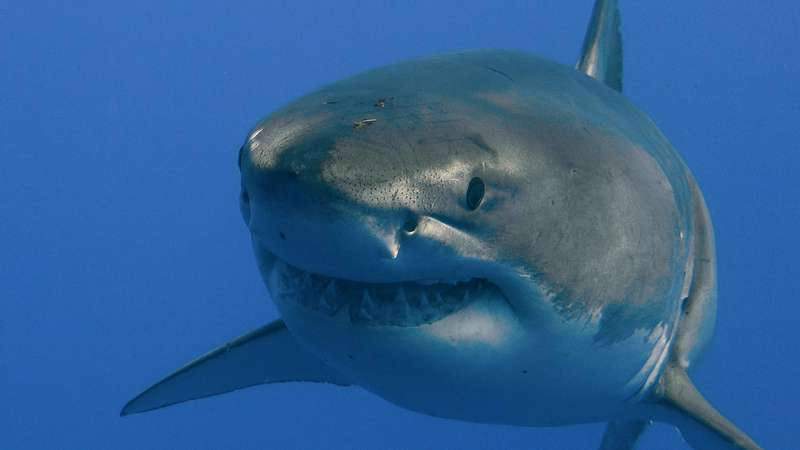shark: (129, 1, 800, 450)
